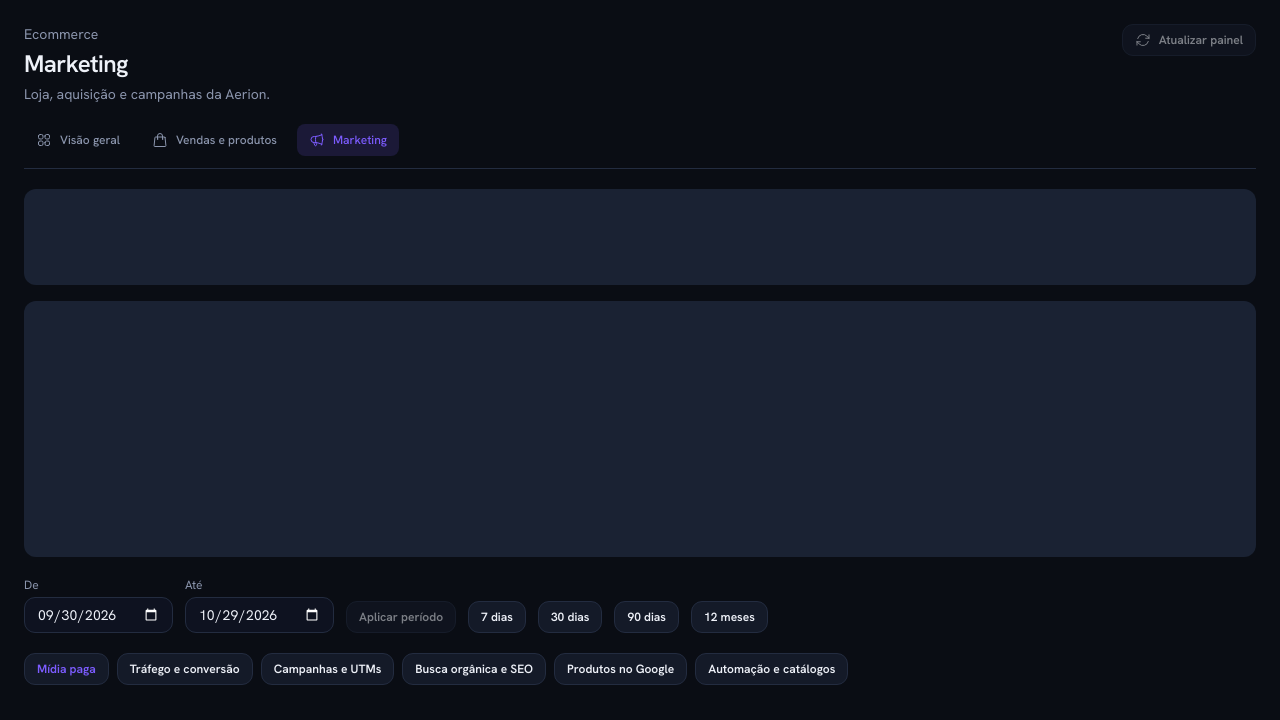
Test case: Search Console stays in Marketing and shows organic totals separately from sales
Step 1. Click the button "Busca orgânica e SEO" → [474, 669], box [402,653,546,685]
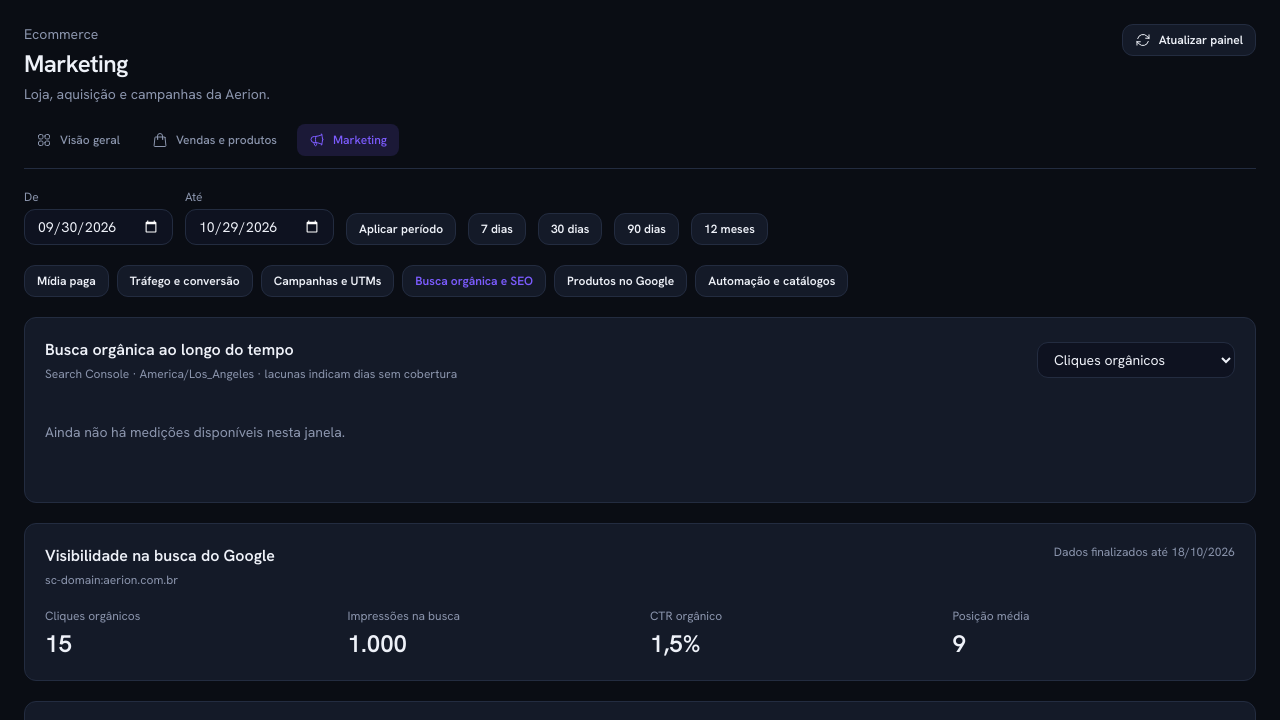
Expected: the heading "Visibilidade na busca do Google" is shown, [45,544,275,568]
Expected: the text "sc-domain:aerion.com.br" is shown, [45,572,178,588]
Expected: the text "1,5%" is shown, [650,628,700,659]
